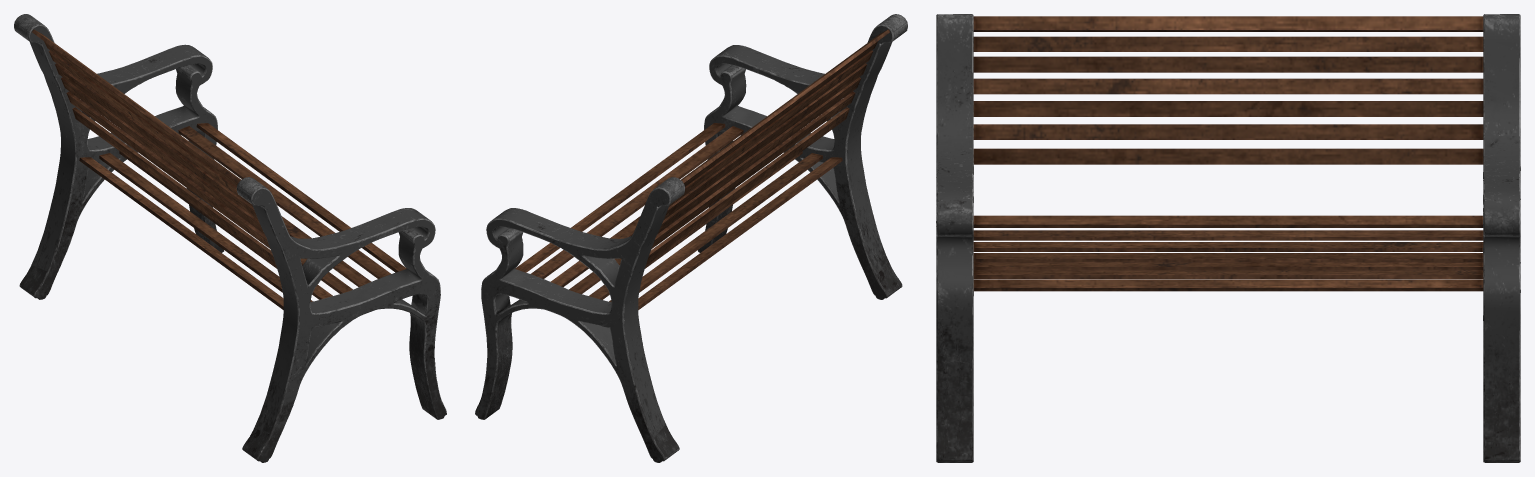
File: bench_aged_and_gritty.glb
3 views of the same model, side by side, from view 1: azimuth 30°, elevation 25°; view 2: azimuth 150°, elevation 25°; view 3: azimuth 270°, elevation 25° (orthographic). The views are drawn at different scales.
Visible parts, largest first — view 1: Cube.013; view 2: Cube.013; view 3: Cube.013.
Boxes of the visible parts, x1,y1,x2,y2 form: Cube.013: [14, 14, 446, 462]; Cube.013: [475, 14, 907, 462]; Cube.013: [936, 14, 1520, 462].
Size of the model in its own units: 1659 by 2233 by 3491.
Materials: 1 (1 with a texture image).
